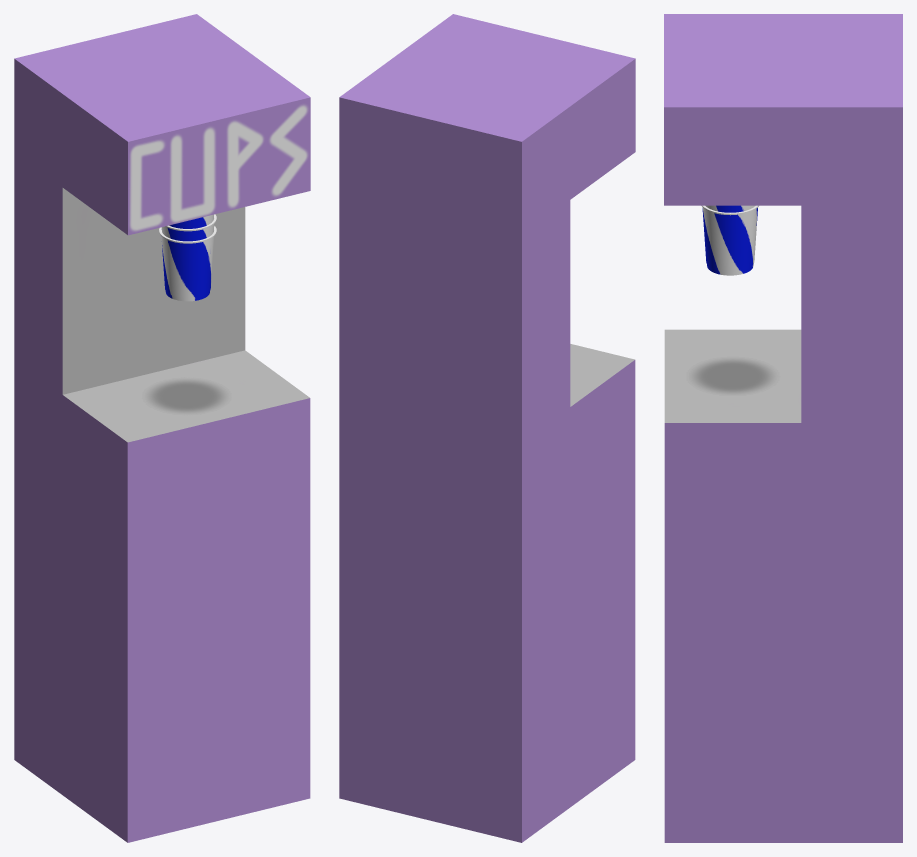
Rendered from SODAdisser.fbx.
3 renders of one model, left to right at view 1: azimuth 30°, elevation 25°; view 2: azimuth 150°, elevation 25°; view 3: azimuth 270°, elevation 25°, orthographic. The views are drawn at different scales.
Visible parts, largest first — view 1: MACHINE, Cylinder; view 2: MACHINE; view 3: MACHINE, Cylinder.
Part boxes in pixels (x1,y1,x2,y2): MACHINE: (14,14,310,842); Cylinder: (159,214,216,301); MACHINE: (339,14,635,842); MACHINE: (664,14,902,842); Cylinder: (701,205,758,275).
Bounding box in the file's own units: 37.24 × 137 × 40.24.
